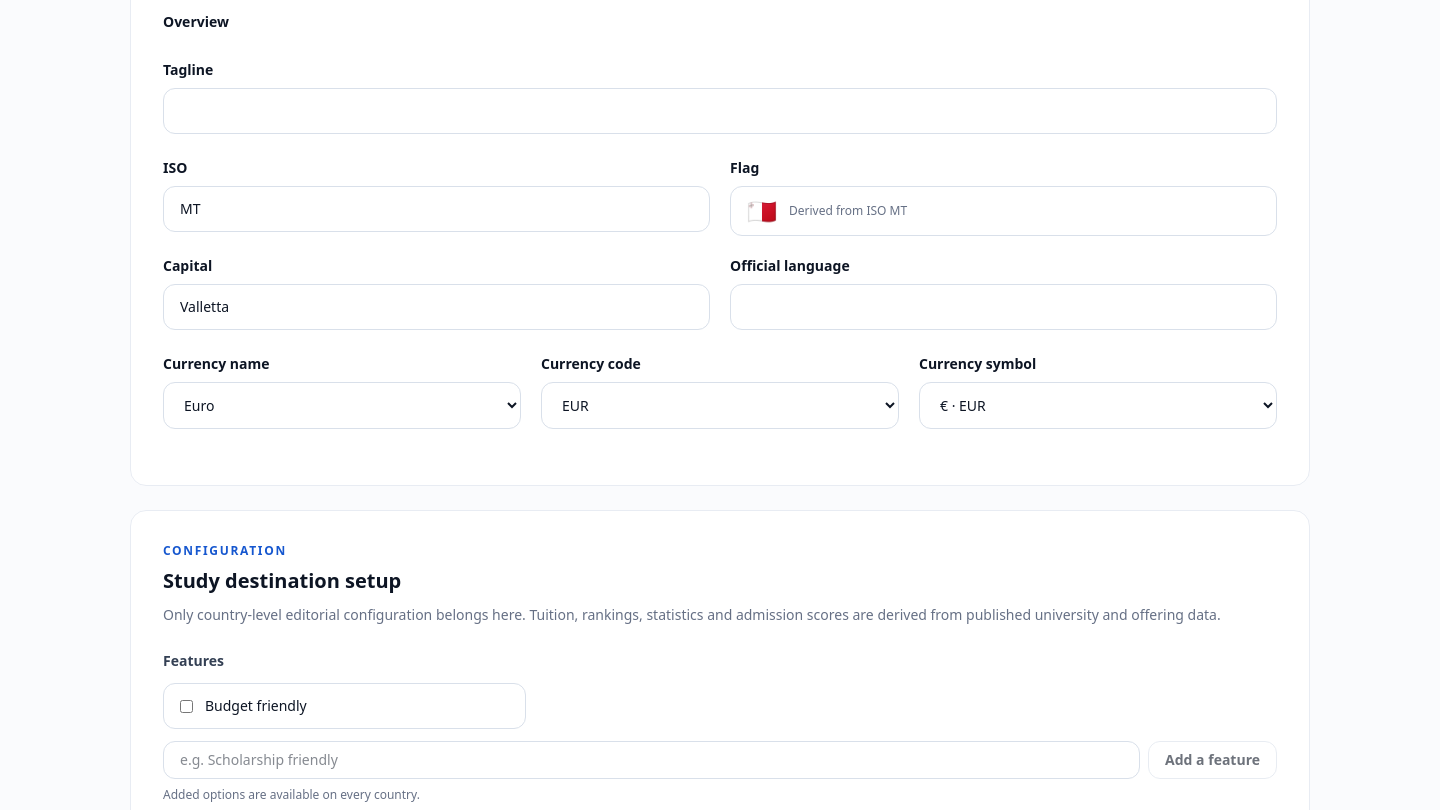
Test: country editor identity section › offers currency as three linked selectors that cannot disagree
(page scrolled)
Expected: the dropdown labelled "Currency name" shows "Euro", [163,382,521,429]
Select "£ · GBP" in the dropdown labelled "Currency symbol": (1098, 406) [919,382,1277,429]
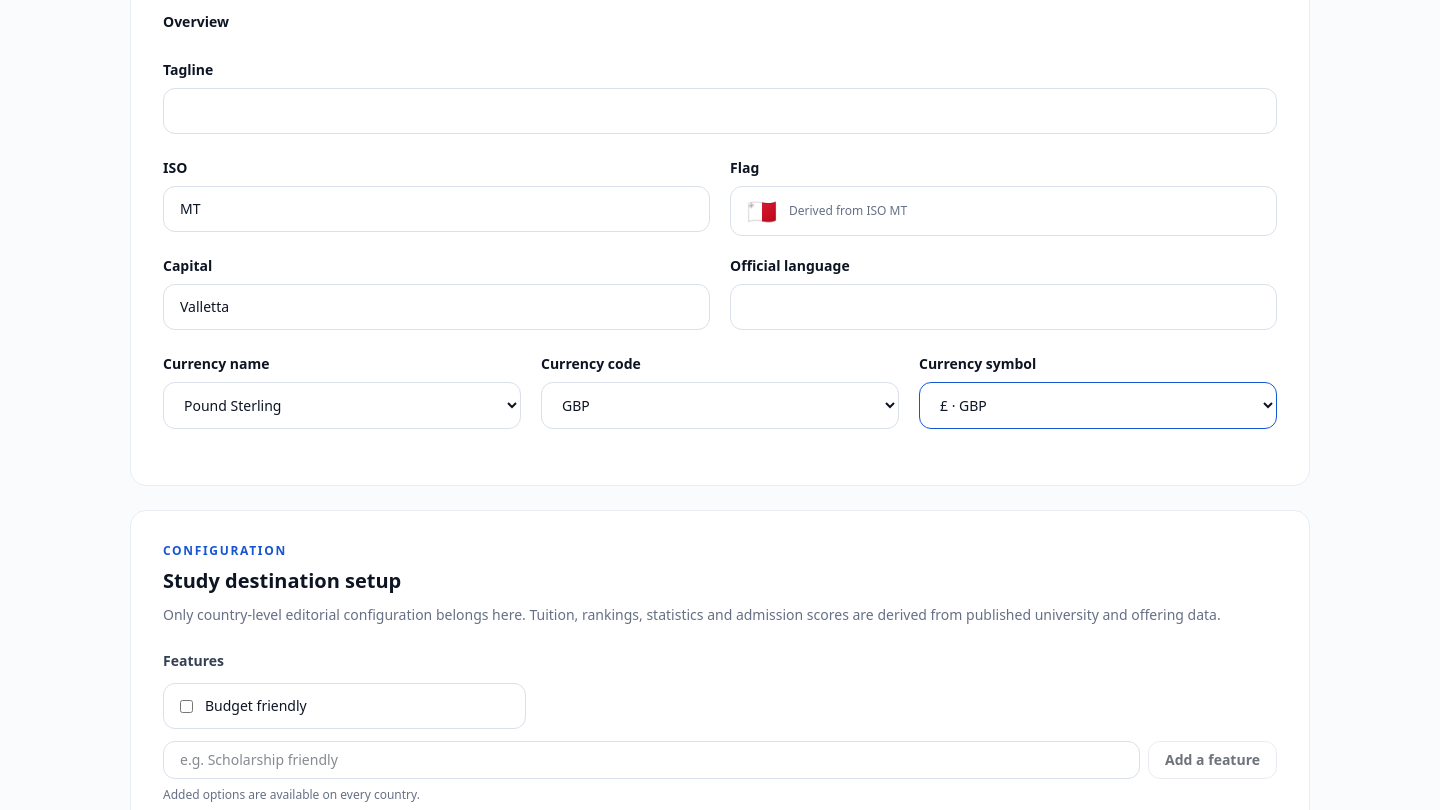
Now the dropdown labelled "Currency name" shows "Pound Sterling", box [163,382,521,429]
Now the dropdown labelled "Currency code" shows "GBP", box [541,382,899,429]
